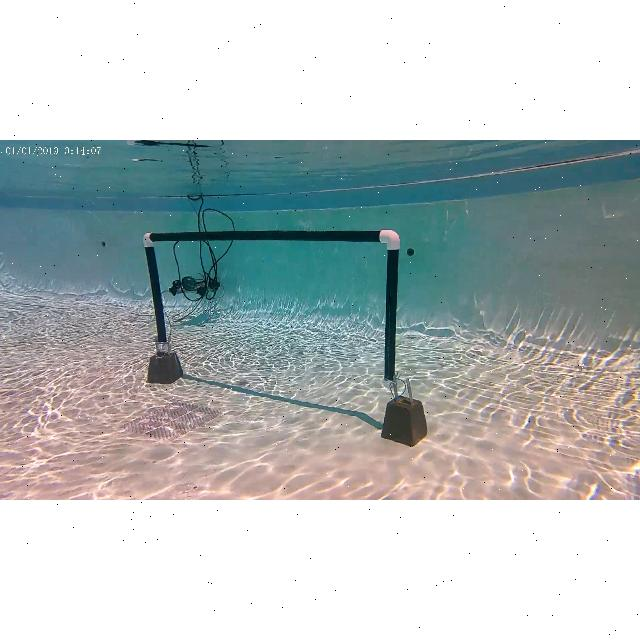prequal gate: (142, 229, 400, 389)
prequal gate leg l: (142, 231, 172, 349)
prequal gate leg r: (378, 227, 399, 386)
